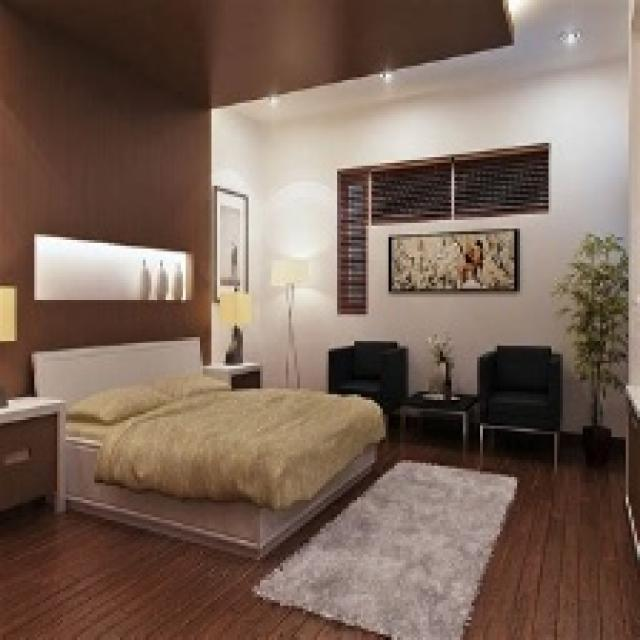Bed: (28, 334, 386, 560)
